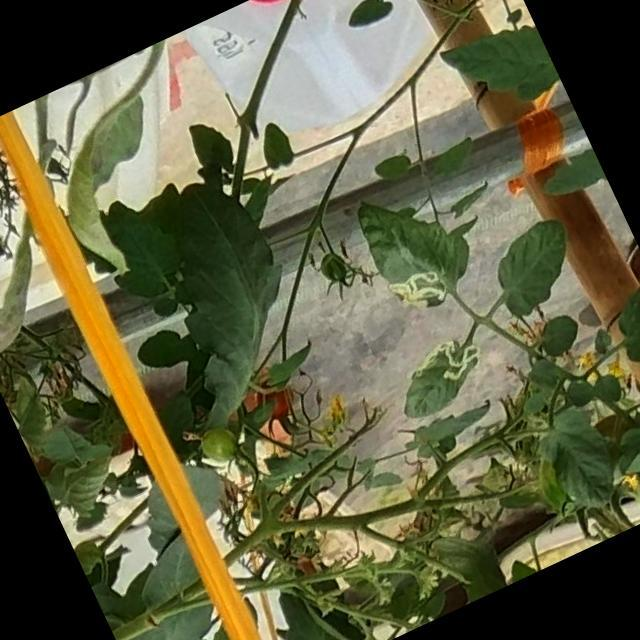Tomato target spot leaf: (346, 165, 490, 328), (379, 324, 502, 431)
